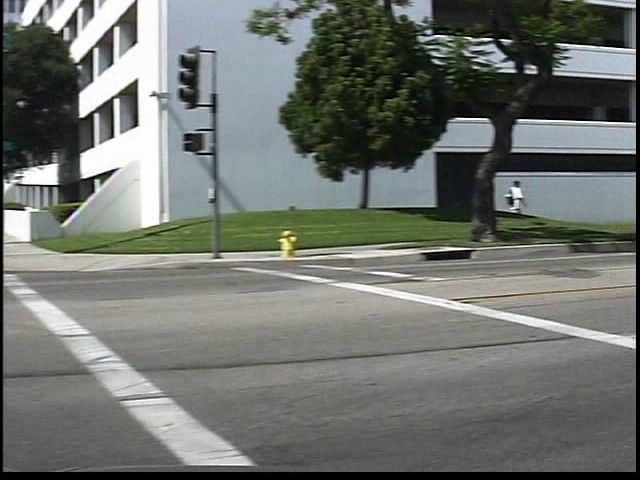person: (522, 174, 545, 234)
